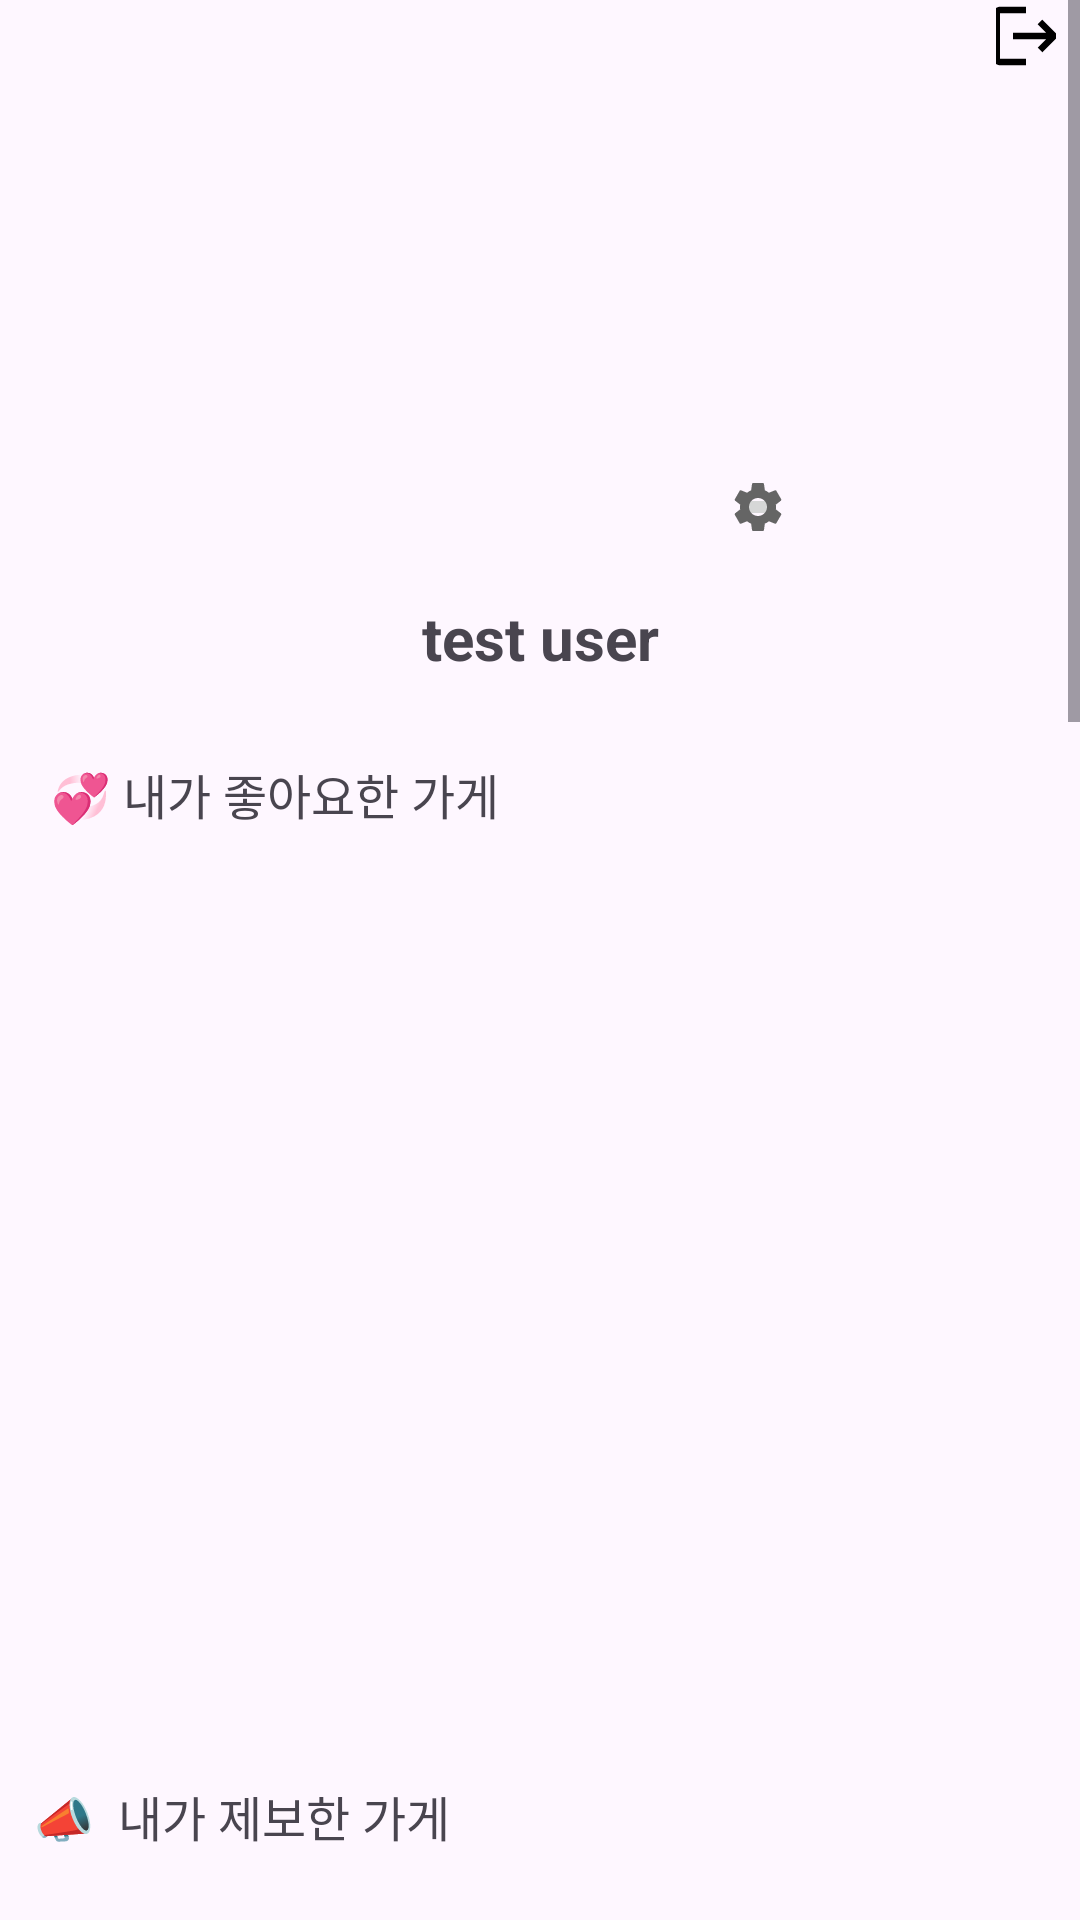

Icons on this 1080x1920 Android screen, each with its box as (x1, y1, x2, y2):
settings: (734, 483, 782, 531)
